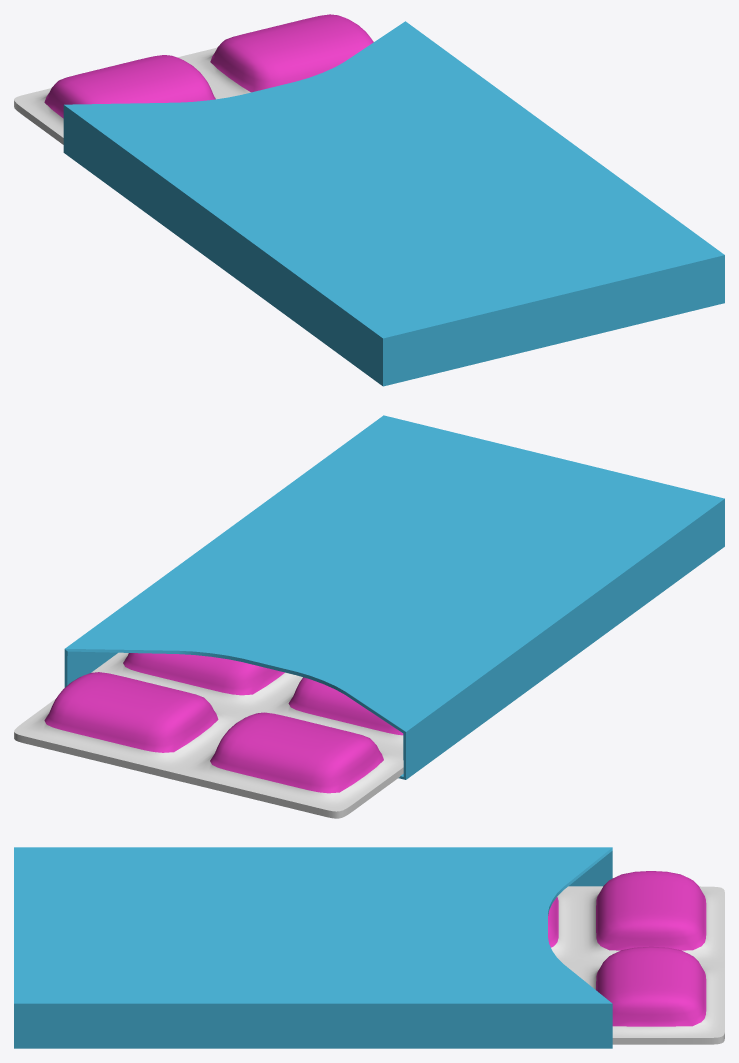
Rendered from bubble gum packet.glb.
3 views of the same model, one above another, from view 1: azimuth 30°, elevation 25°; view 2: azimuth 150°, elevation 25°; view 3: azimuth 270°, elevation 25° (orthographic). The views are drawn at different scales.
Parts seen in each view (by area): view 1: Plane.001; view 2: Plane.001; view 3: Plane.001.
Boxes of the visible parts, <box> form: Plane.001: <box>14,14,724,386</box>; Plane.001: <box>14,415,724,818</box>; Plane.001: <box>14,847,724,1048</box>.
Size of the model in its own units: 5.01 by 0.6732 by 9.64.
